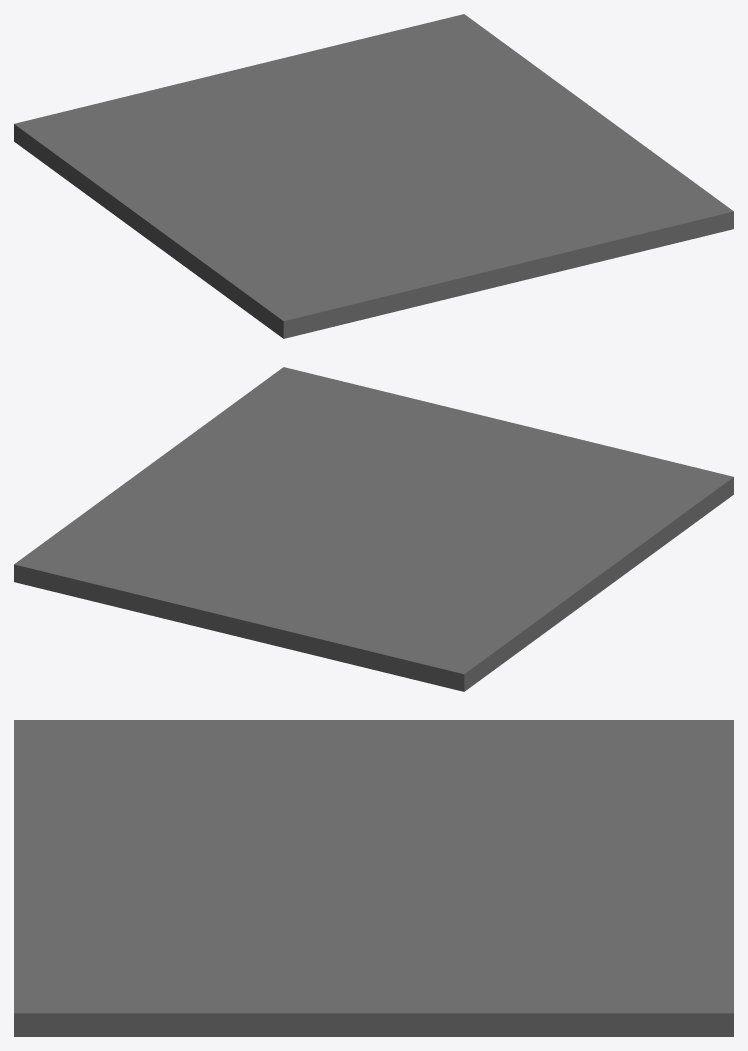
File: CeilingBrokenSide4.fbx
3 renders of one model, top to bottom at view 1: azimuth 30°, elevation 25°; view 2: azimuth 150°, elevation 25°; view 3: azimuth 270°, elevation 25°, orthographic. The views are drawn at different scales.
Visible parts, largest first — view 1: CeilingBroken.038, CeilingBroken.037, CeilingBroken.036, CeilingBroken.039, CeilingBroken.001; view 2: CeilingBroken.038, CeilingBroken.037, CeilingBroken.039, CeilingBroken.001, CeilingBroken.036; view 3: CeilingBroken.038, CeilingBroken.037, CeilingBroken.036, CeilingBroken.001, CeilingBroken.039.
Part boxes in pixels (left/top/right/bottom): CeilingBroken.038: left=48, top=107, right=438, bottom=338; CeilingBroken.037: left=330, top=77, right=589, bottom=300; CeilingBroken.036: left=513, top=106, right=733, bottom=280; CeilingBroken.039: left=14, top=55, right=329, bottom=169; CeilingBroken.001: left=297, top=14, right=549, bottom=107; CeilingBroken.038: left=273, top=439, right=733, bottom=662; CeilingBroken.037: left=100, top=421, right=578, bottom=566; CeilingBroken.039: left=180, top=567, right=503, bottom=691; CeilingBroken.001: left=14, top=502, right=271, bottom=622; CeilingBroken.036: left=140, top=367, right=503, bottom=472; CeilingBroken.038: left=14, top=720, right=643, bottom=885; CeilingBroken.037: left=14, top=820, right=567, bottom=1036; CeilingBroken.036: left=14, top=869, right=397, bottom=1036; CeilingBroken.001: left=491, top=885, right=733, bottom=1036; CeilingBroken.039: left=568, top=720, right=733, bottom=904.
Bounding box in the file's own units: 400 × 15 × 415.
